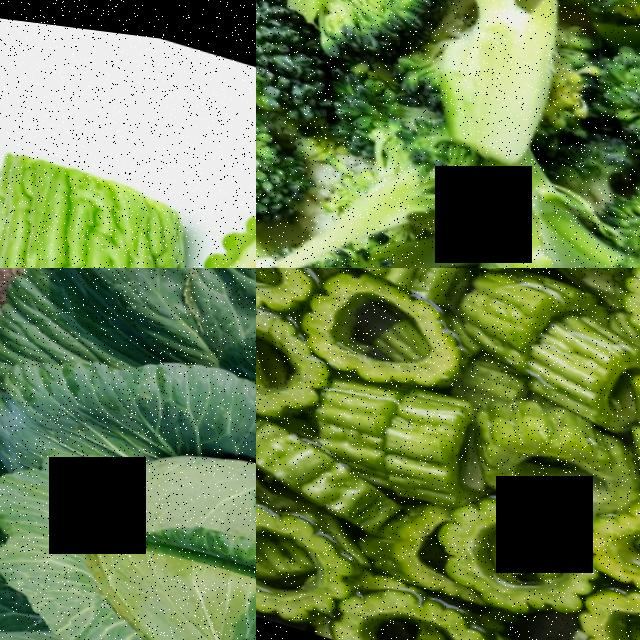bitter gourd: (0, 103, 241, 268), (457, 376, 640, 519), (256, 417, 401, 537), (519, 293, 635, 413), (377, 383, 471, 504), (309, 378, 384, 460)
broccoli: (417, 155, 640, 268), (256, 200, 472, 268), (278, 0, 454, 78), (256, 72, 328, 250)
cabbage: (0, 268, 256, 640)
